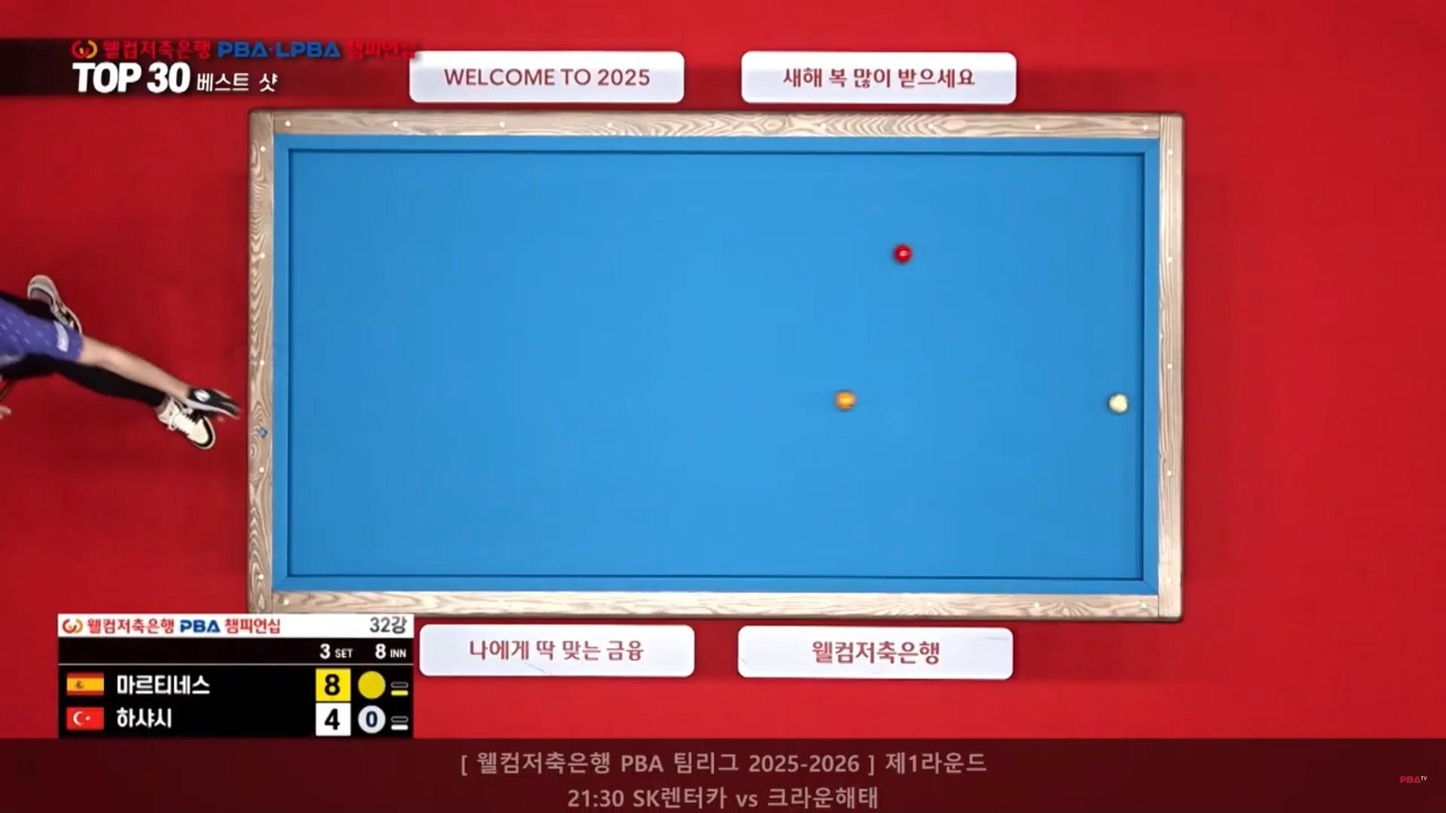Red: (890, 244, 913, 262)
White: (1107, 394, 1133, 414)
Yellow: (829, 389, 858, 409)
